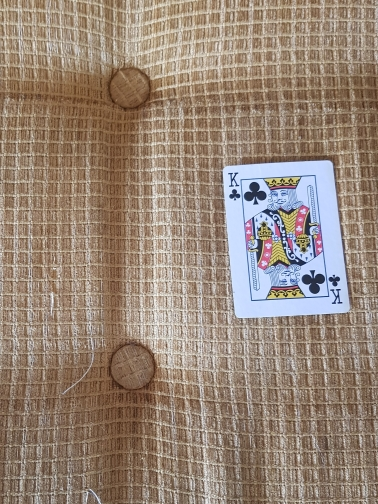king: (221, 159, 352, 320)
